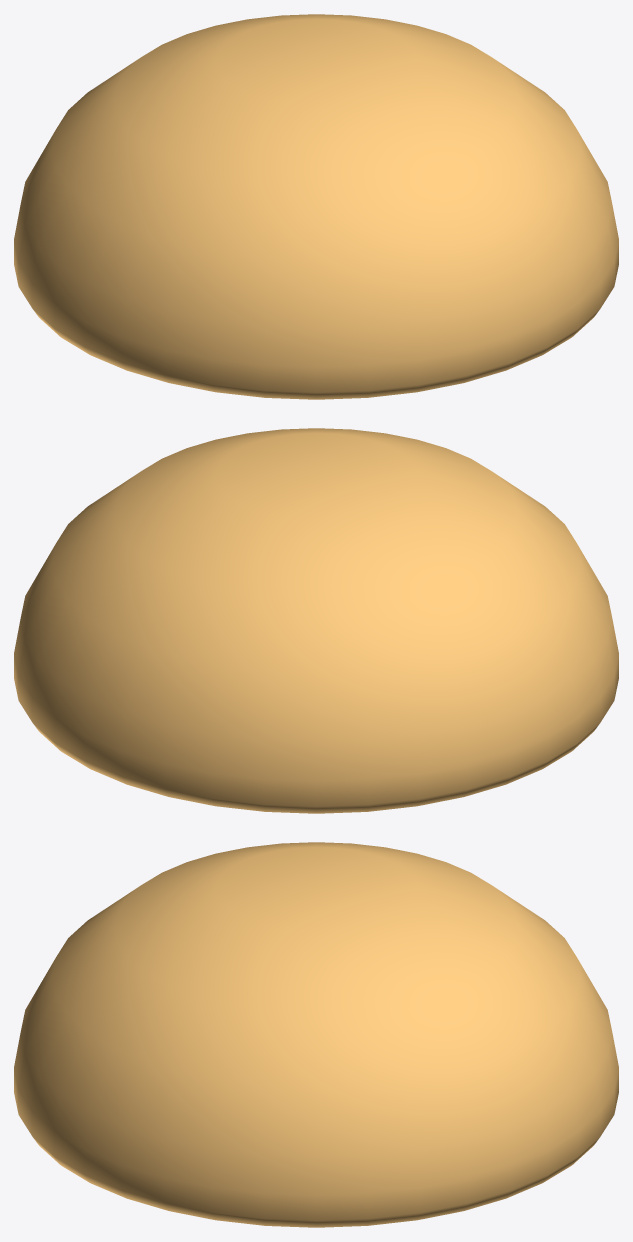
The model's file is panSuperior.glb.
The picture shows the model from 3 angles, top to bottom: view 1: azimuth 30°, elevation 25°; view 2: azimuth 150°, elevation 25°; view 3: azimuth 270°, elevation 25°; orthographic projection.
Parts seen in each view (by area): view 1: PanSuperior; view 2: PanSuperior; view 3: PanSuperior.
Part boxes in pixels (x1=…): PanSuperior: x1=14, y1=14, x2=618, y2=399; PanSuperior: x1=14, y1=428, x2=618, y2=813; PanSuperior: x1=14, y1=842, x2=618, y2=1227.
Bounding box in the file's own units: 119 × 46.17 × 119.
